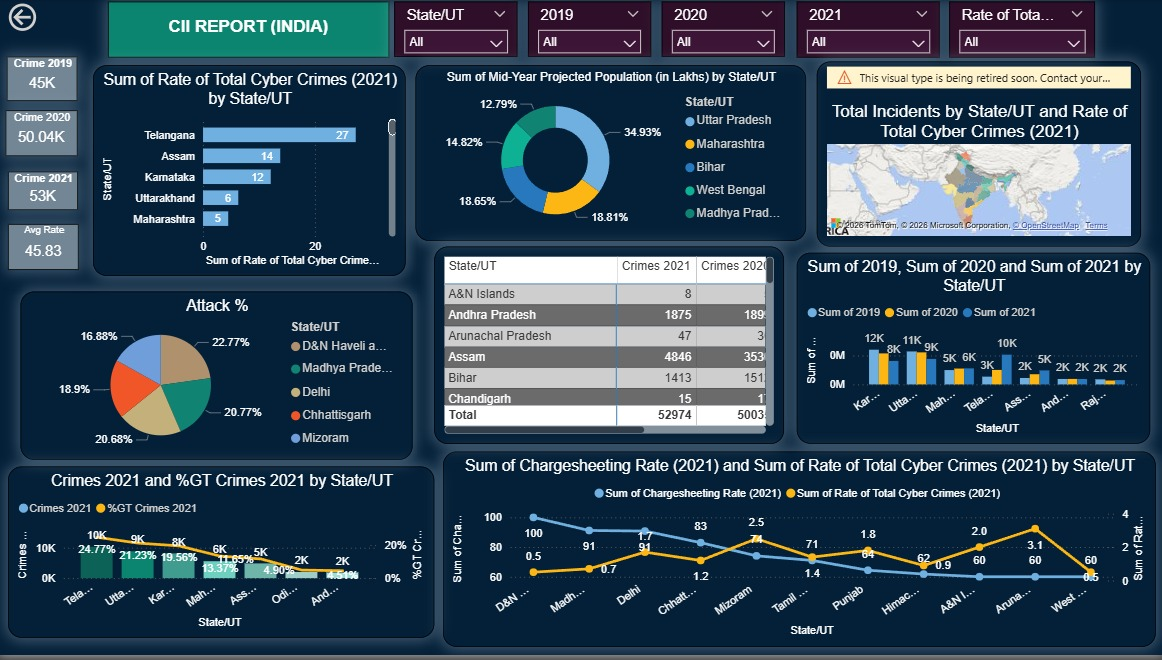

The page's visual inventory and layout, read from the dashboard file:
{"tool":"powerbi","page":{"name":"INDIA REGIONAL ANAYLSIS","canvas":[1280,720],"ordinal":2},"visuals":[{"type":"textbox","box":[121.4,2.9,308.6,61.4],"z":0},{"type":"slicer","fields":{"Values":["CIIReport.State/UT"]},"box":[435.5,2.7,135.5,60.9],"z":1},{"type":"slicer","fields":{"Values":["CIIReport.2019"]},"box":[581.7,2.4,135,61],"z":2},{"type":"slicer","fields":{"Values":["CIIReport.2020"]},"box":[728.7,2.4,135,61],"z":3},{"type":"slicer","fields":{"Values":["CIIReport.2021"]},"box":[876.6,2.6,157.1,61.4],"z":4},{"type":"slicer","fields":{"Values":["CIIReport.Rate of Total Cyber Crimes (2021)"]},"box":[1043.7,2.6,160,61.4],"z":5},{"type":"card","title":"Crime 2019","fields":{"Values":["CIIReport.Crimes 2019"]},"box":[10,63.3,77.8,48.9],"z":6},{"type":"card","title":"Crime 2020","fields":{"Values":["CIIReport.Crimes 2020"]},"box":[8.9,122.2,78.9,50],"z":7},{"type":"card","title":"Crime 2021","fields":{"Values":["CIIReport.Crimes 2021"]},"box":[11.1,188.9,76.7,42.2],"z":8},{"type":"card","title":"Avg Rate","fields":{"Values":["CIIReport.Avg Chargesheeting Rate"]},"box":[11.1,246.7,77.8,50],"z":9},{"type":"clusteredBarChart","fields":{"Category":["CIIReport.State/UT"],"Y":["Sum(CIIReport.Rate of Total Cyber Crimes (2021))"]},"box":[103.8,72.9,343.6,231.4],"z":10},{"type":"donutChart","fields":{"Category":["CIIReport.State/UT"],"Y":["Sum(CIIReport.Mid-Year Projected Population (in Lakhs))"]},"box":[458.6,72.9,428.6,192.9],"z":11},{"type":"filledMap","fields":{"Category":["CIIReport.State/UT"],"Series":["CIIReport.Rate of Total Cyber Crimes (2021)"]},"box":[898.6,68.6,355.7,202.9],"z":12},{"type":"lineChart","fields":{"Category":["CIIReport.State/UT"],"Y":["Sum(CIIReport.Chargesheeting Rate (2021))"],"Y2":["Sum(CIIReport.Rate of Total Cyber Crimes (2021))"]},"box":[488.5,496.7,782.2,214.1],"z":13},{"type":"clusteredColumnChart","fields":{"Category":["CIIReport.State/UT"],"Y":["Sum(CIIReport.2019)","Sum(CIIReport.2020)","Sum(CIIReport.2021)"]},"box":[876.8,278.6,388.3,209.9],"z":14},{"type":"pivotTable","fields":{"Rows":["CIIReport.State/UT"],"Values":["CIIReport.Crimes 2021","CIIReport.Crimes 2020","CIIReport.Crimes 2019"]},"box":[478.9,271.7,384.2,216.8],"z":15},{"type":"pieChart","title":"Attack %","fields":{"Category":["CIIReport.State/UT"],"Y":["Sum(CIIReport.Chargesheeting Rate (2021))"]},"box":[25.2,321.1,430.5,185.1],"z":16},{"type":"lineStackedColumnComboChart","fields":{"Category":["CIIReport.State/UT"],"Y":["CIIReport.Crimes 2021"],"Y2":["Divide(CIIReport.Crimes 2021, ScopedEval(CIIReport.Crimes 2021, []))"]},"box":[11,513.2,467.9,188],"z":17},{"type":"actionButton","box":[6.7,0,45,40],"z":19}]}

Visuals, with their boxes in screenshot pixels (x1, y1, x2, y2), scaled from the page's 1280x720 canvas onto the 1162x660 screenshot:
textbox: [110,3,390,59]
slicer - CIIReport.State/UT: [395,2,518,58]
slicer - CIIReport.2019: [528,2,651,58]
slicer - CIIReport.2020: [662,2,784,58]
slicer - CIIReport.2021: [796,2,938,59]
slicer - CIIReport.Rate of Total Cyber Crimes (2021): [947,2,1093,59]
"Crime 2019" card: [9,58,80,103]
"Crime 2020" card: [8,112,80,158]
"Crime 2021" card: [10,173,80,212]
"Avg Rate" card: [10,226,81,272]
clusteredBarChart - CIIReport.State/UT x Sum(CIIReport.Rate of Total Cyber Crimes (2021)): [94,67,406,279]
donutChart - CIIReport.State/UT x Sum(CIIReport.Mid-Year Projected Population (in Lakhs)): [416,67,805,244]
filledMap - CIIReport.State/UT x CIIReport.Rate of Total Cyber Crimes (2021): [816,63,1139,249]
lineChart - CIIReport.State/UT x Sum(CIIReport.Chargesheeting Rate (2021)): [443,455,1154,652]
clusteredColumnChart - CIIReport.State/UT x Sum(CIIReport.2019): [796,255,1148,448]
pivotTable - CIIReport.State/UT x CIIReport.Crimes 2021: [435,249,784,448]
"Attack %" pieChart: [23,294,414,464]
lineStackedColumnComboChart - CIIReport.State/UT x CIIReport.Crimes 2021: [10,470,435,643]
actionButton: [6,0,47,37]
